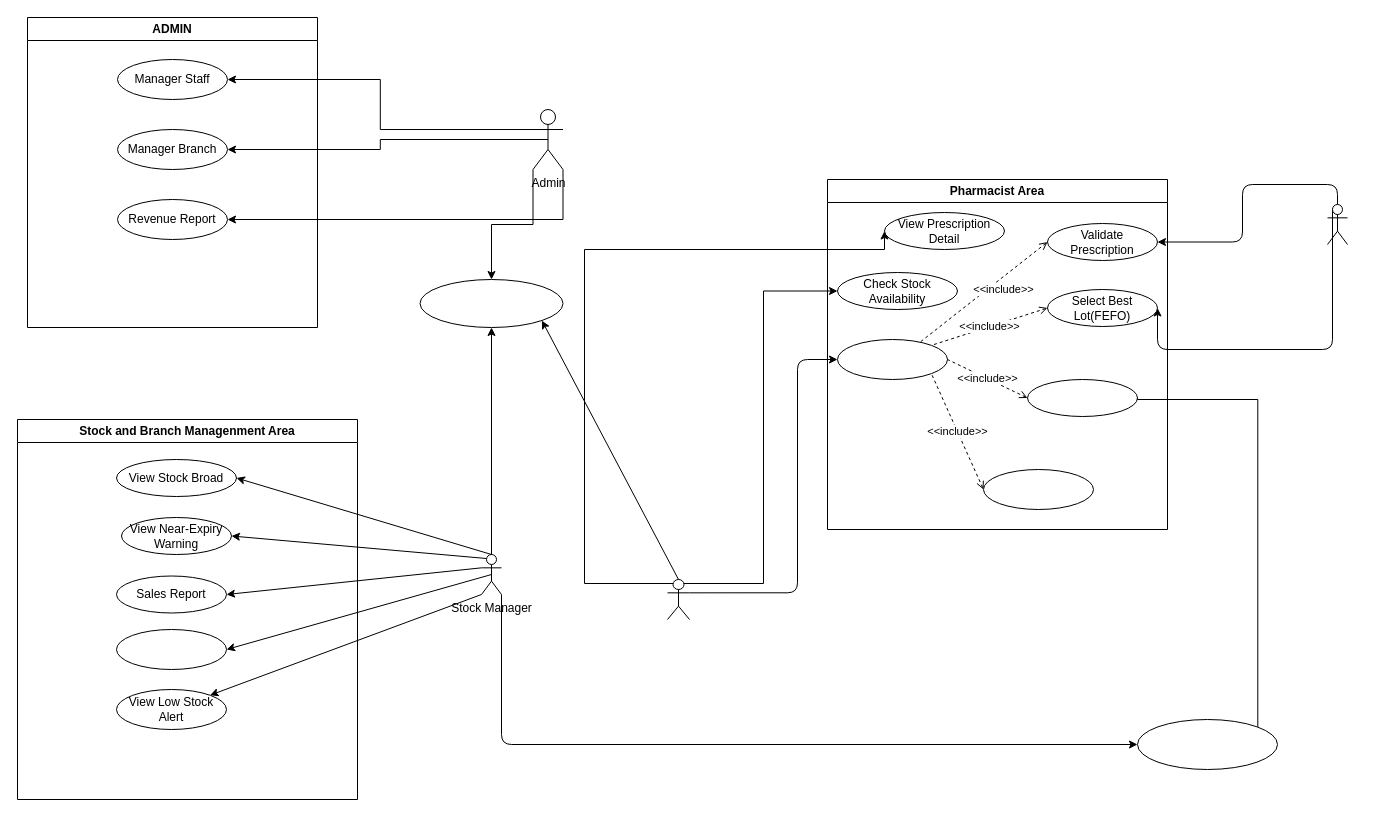
Some shapes in this 1375 by 817 pixel diagram are drawn without their labels. The centre of each missing label's shape, as x and y in pixels:
"Deduct Inventory" belongs at pixel 1082 397.
"Dispense Medicine" belongs at pixel 892 359.
"Login/Logout" belongs at pixel 491 303.
"Manage Medicine Catalog" belongs at pixel 171 649.
"Pharmacist" belongs at pixel 678 599.
"Record Dispense History" belongs at pixel 1038 489.
"System" belongs at pixel 1337 224.
"Update and Synchorize Inveritory File" belongs at pixel 1207 744.
